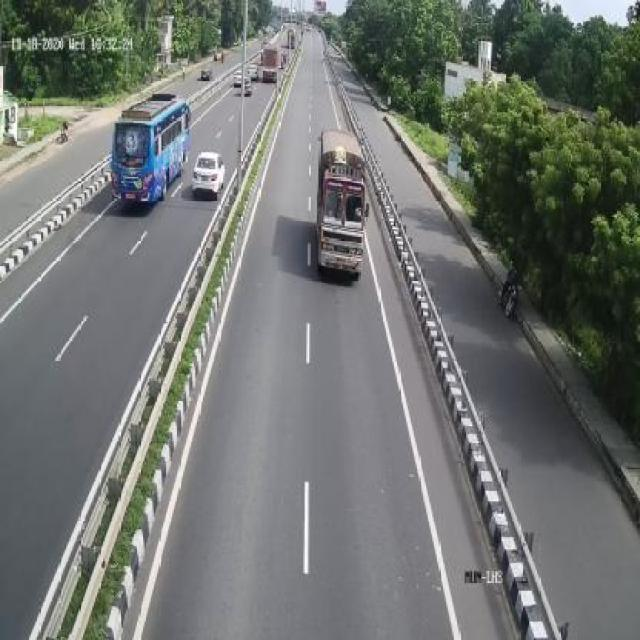car: (192, 154, 228, 198)
